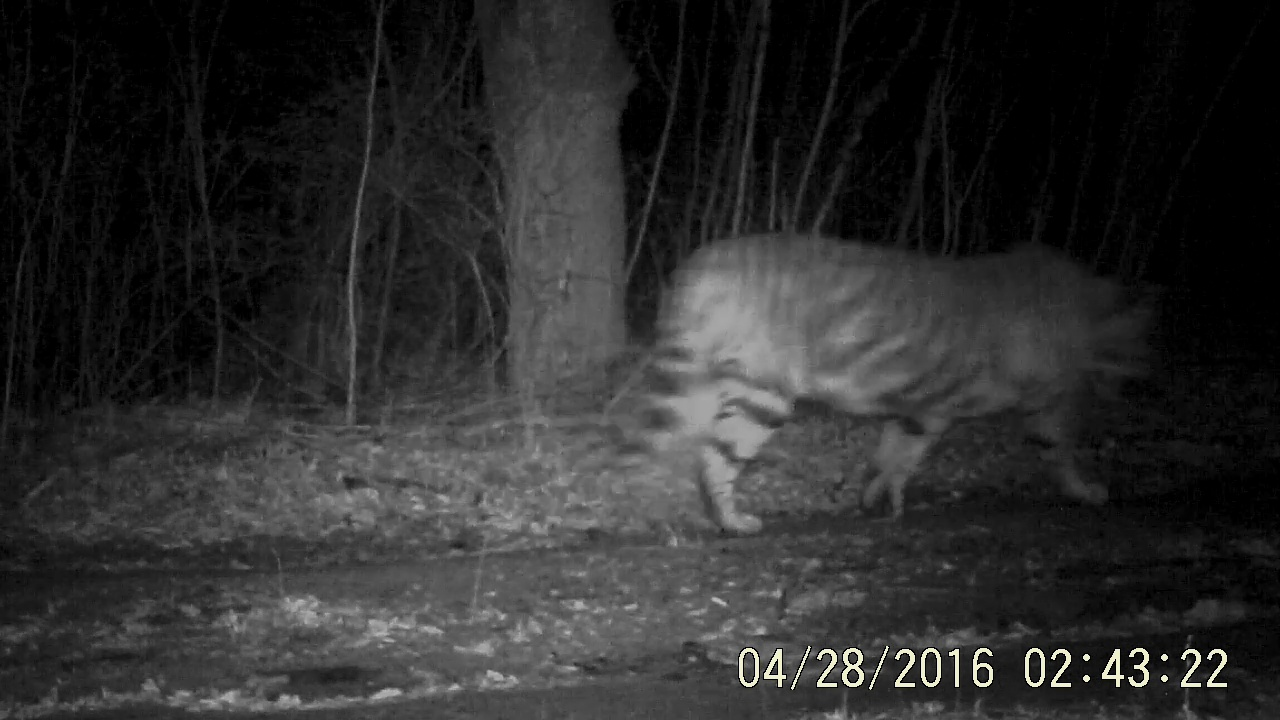Tiger: (546, 130, 1209, 565)
